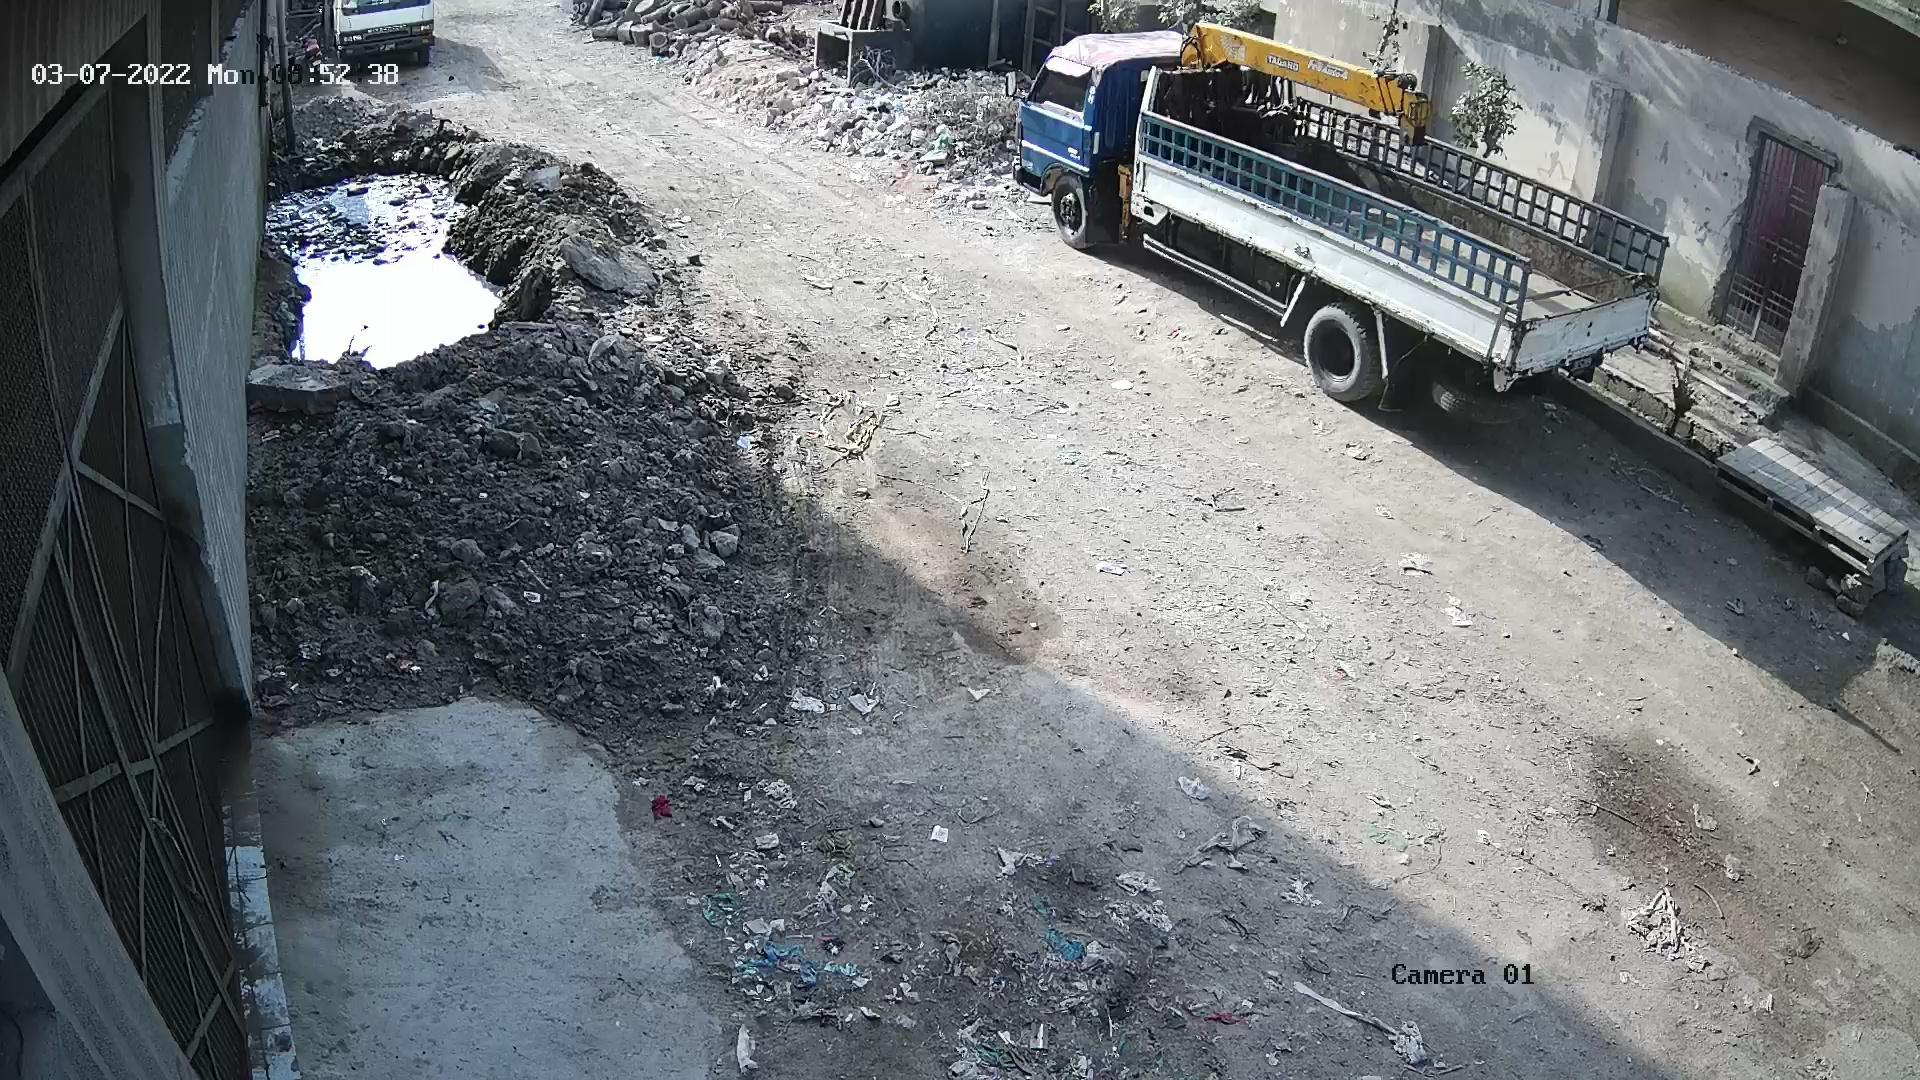bike: (303, 32, 322, 63)
other: (1014, 4, 1663, 413), (335, 0, 436, 63)
